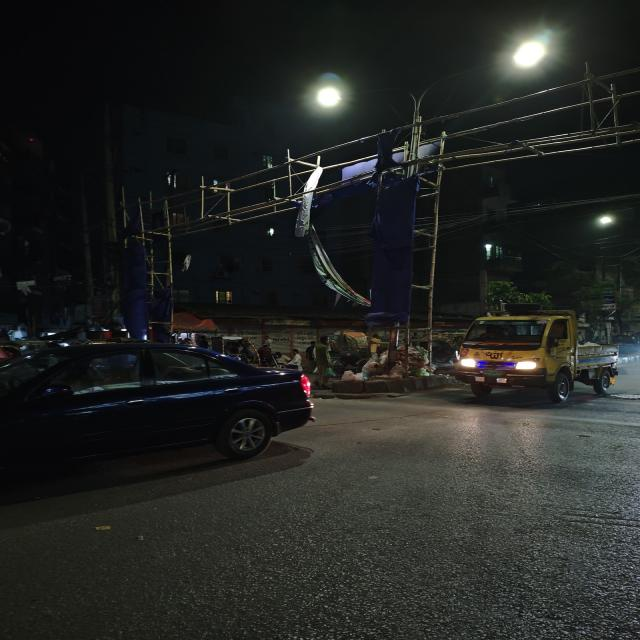car: (0, 336, 319, 480)
pickup_van: (454, 309, 626, 406)
